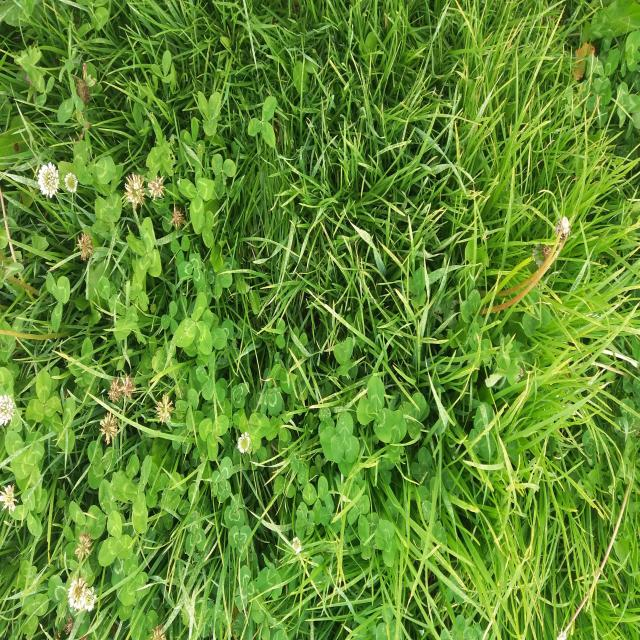Four Leaf Clover: (178, 151, 214, 230), (126, 217, 161, 283)
